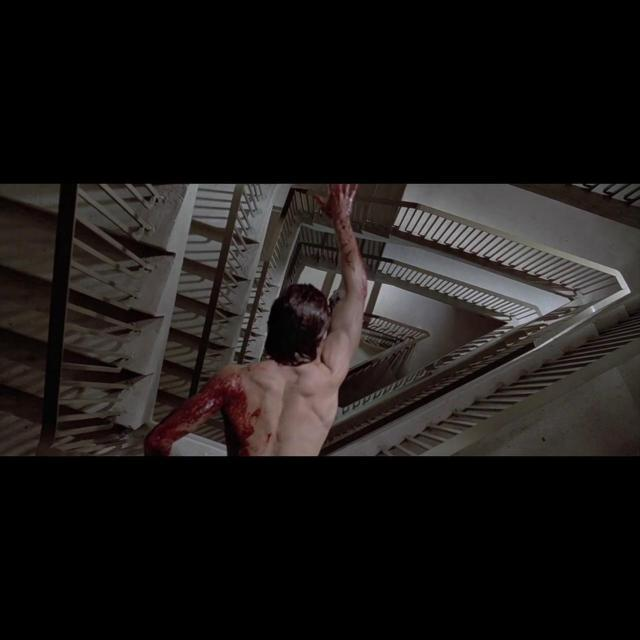blood: (144, 372, 260, 456), (309, 184, 363, 286), (264, 431, 276, 449)
